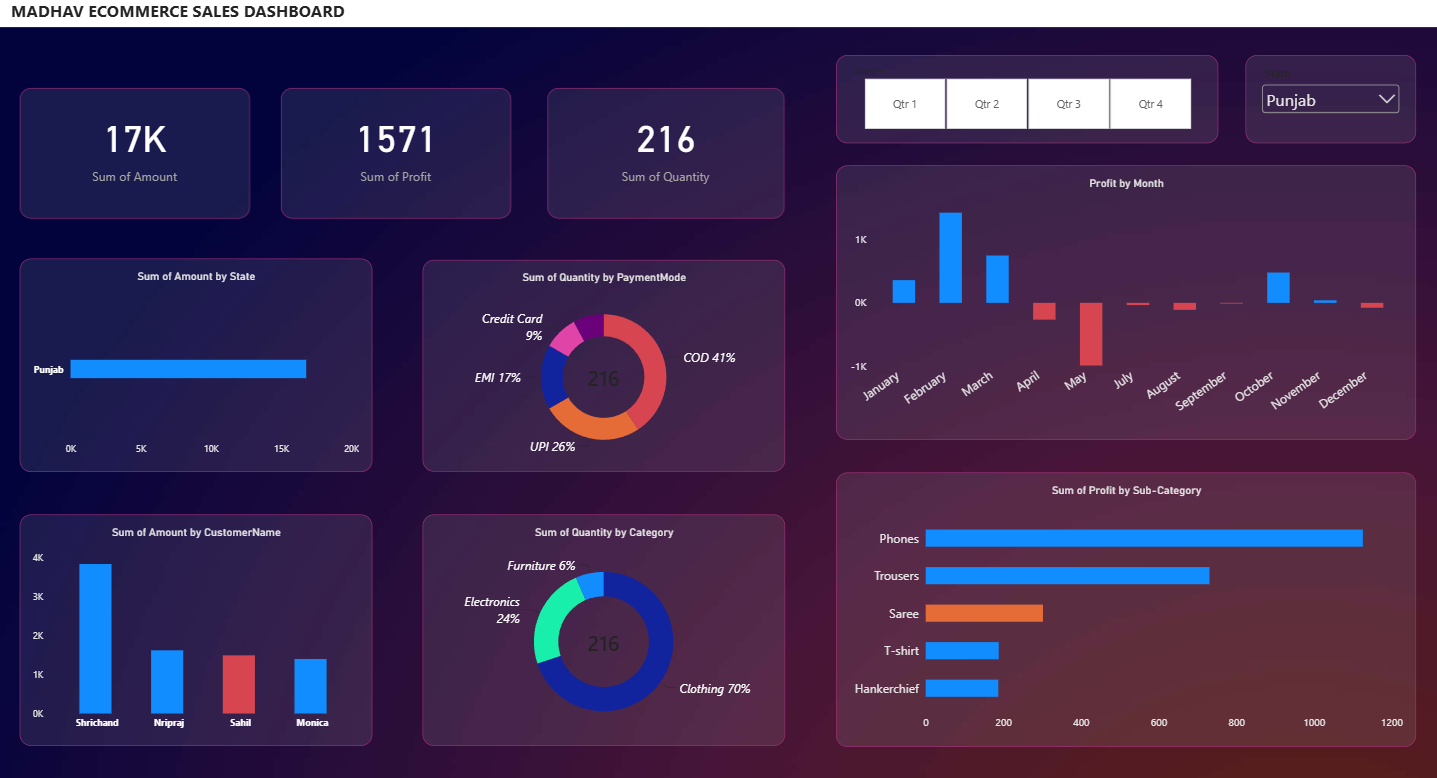

What the dashboard file says about the page in this screenshot:
{"tool":"powerbi","page":{"name":"Page 1","canvas":[1920,1080],"ordinal":0},"visuals":[{"type":"textbox","box":[9.3,0,464,37.3],"z":0},{"type":"columnChart","title":"Profit by Month","fields":{"Category":["Orders.Order Date.Variation.Date Hierarchy.Month"],"Y":["Sum(Details.Profit)"]},"box":[1098,218,762,360],"z":1000},{"type":"barChart","fields":{"Category":["Details.Sub-Category"],"Y":["Sum(Details.Profit)"]},"box":[1098,620,762,360],"z":2000},{"type":"donutChart","fields":{"Category":["Details.Category"],"Y":["Sum(Details.Quantity)"]},"box":[554.4,675.7,476,304.3],"z":3000},{"type":"donutChart","fields":{"Category":["Details.PaymentMode","Details.Category"],"Y":["Sum(Details.Quantity)"]},"box":[554.4,341.6,476,278.1],"z":4000},{"type":"advanceCardE03760C5AB684758B56AA29F9E6C257B","fields":{"mainMeasure":["Sum(Details.Amount)"]},"box":[26.1,115.7,302.4,171.7],"z":5000},{"type":"advanceCardE03760C5AB684758B56AA29F9E6C257B","fields":{"mainMeasure":["Sum(Details.Quantity)"]},"box":[718.7,115.7,311.7,171.7],"z":6000},{"type":"advanceCardE03760C5AB684758B56AA29F9E6C257B","fields":{"mainMeasure":["Sum(Details.Profit)"]},"box":[369.6,115.7,302.4,171.7],"z":7000},{"type":"barChart","fields":{"Category":["Orders.State"],"Y":["Sum(Details.Amount)"]},"box":[26.1,339.7,462.9,280],"z":8000},{"type":"columnChart","fields":{"Category":["Orders.CustomerName"],"Y":["Sum(Details.Amount)"]},"box":[26,676,463,304],"z":9000},{"type":"slicer","fields":{"Values":["Orders.Order Date.Variation.Date Hierarchy.Quarter"]},"box":[1098,72,502,116],"z":9001},{"type":"slicer","fields":{"Values":["Orders.State"]},"box":[1636,72,224,116],"z":9002}]}

Visuals, with their boxes on the page's 1920x1080 design canvas (x1, y1, x2, y2). These are canvas units, not pixel positions in the 1437x778 screenshot, which may show the page scaled, cropped or inside an application window:
textbox: bbox(9, 0, 473, 37)
"Profit by Month" columnChart: bbox(1098, 218, 1860, 578)
barChart - Details.Sub-Category x Sum(Details.Profit): bbox(1098, 620, 1860, 980)
donutChart - Details.Category x Sum(Details.Quantity): bbox(554, 676, 1030, 980)
donutChart - Details.PaymentMode x Details.Category: bbox(554, 342, 1030, 620)
advanceCardE03760C5AB684758B56AA29F9E6C257B - Sum(Details.Amount): bbox(26, 116, 328, 287)
advanceCardE03760C5AB684758B56AA29F9E6C257B - Sum(Details.Quantity): bbox(719, 116, 1030, 287)
advanceCardE03760C5AB684758B56AA29F9E6C257B - Sum(Details.Profit): bbox(370, 116, 672, 287)
barChart - Orders.State x Sum(Details.Amount): bbox(26, 340, 489, 620)
columnChart - Orders.CustomerName x Sum(Details.Amount): bbox(26, 676, 489, 980)
slicer - Orders.Order Date.Variation.Date Hierarchy.Quarter: bbox(1098, 72, 1600, 188)
slicer - Orders.State: bbox(1636, 72, 1860, 188)
